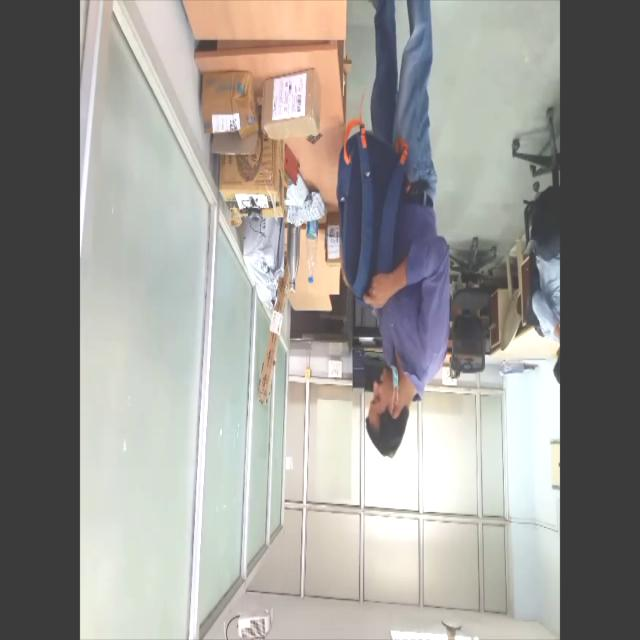shoplifting: (332, 0, 443, 462)
